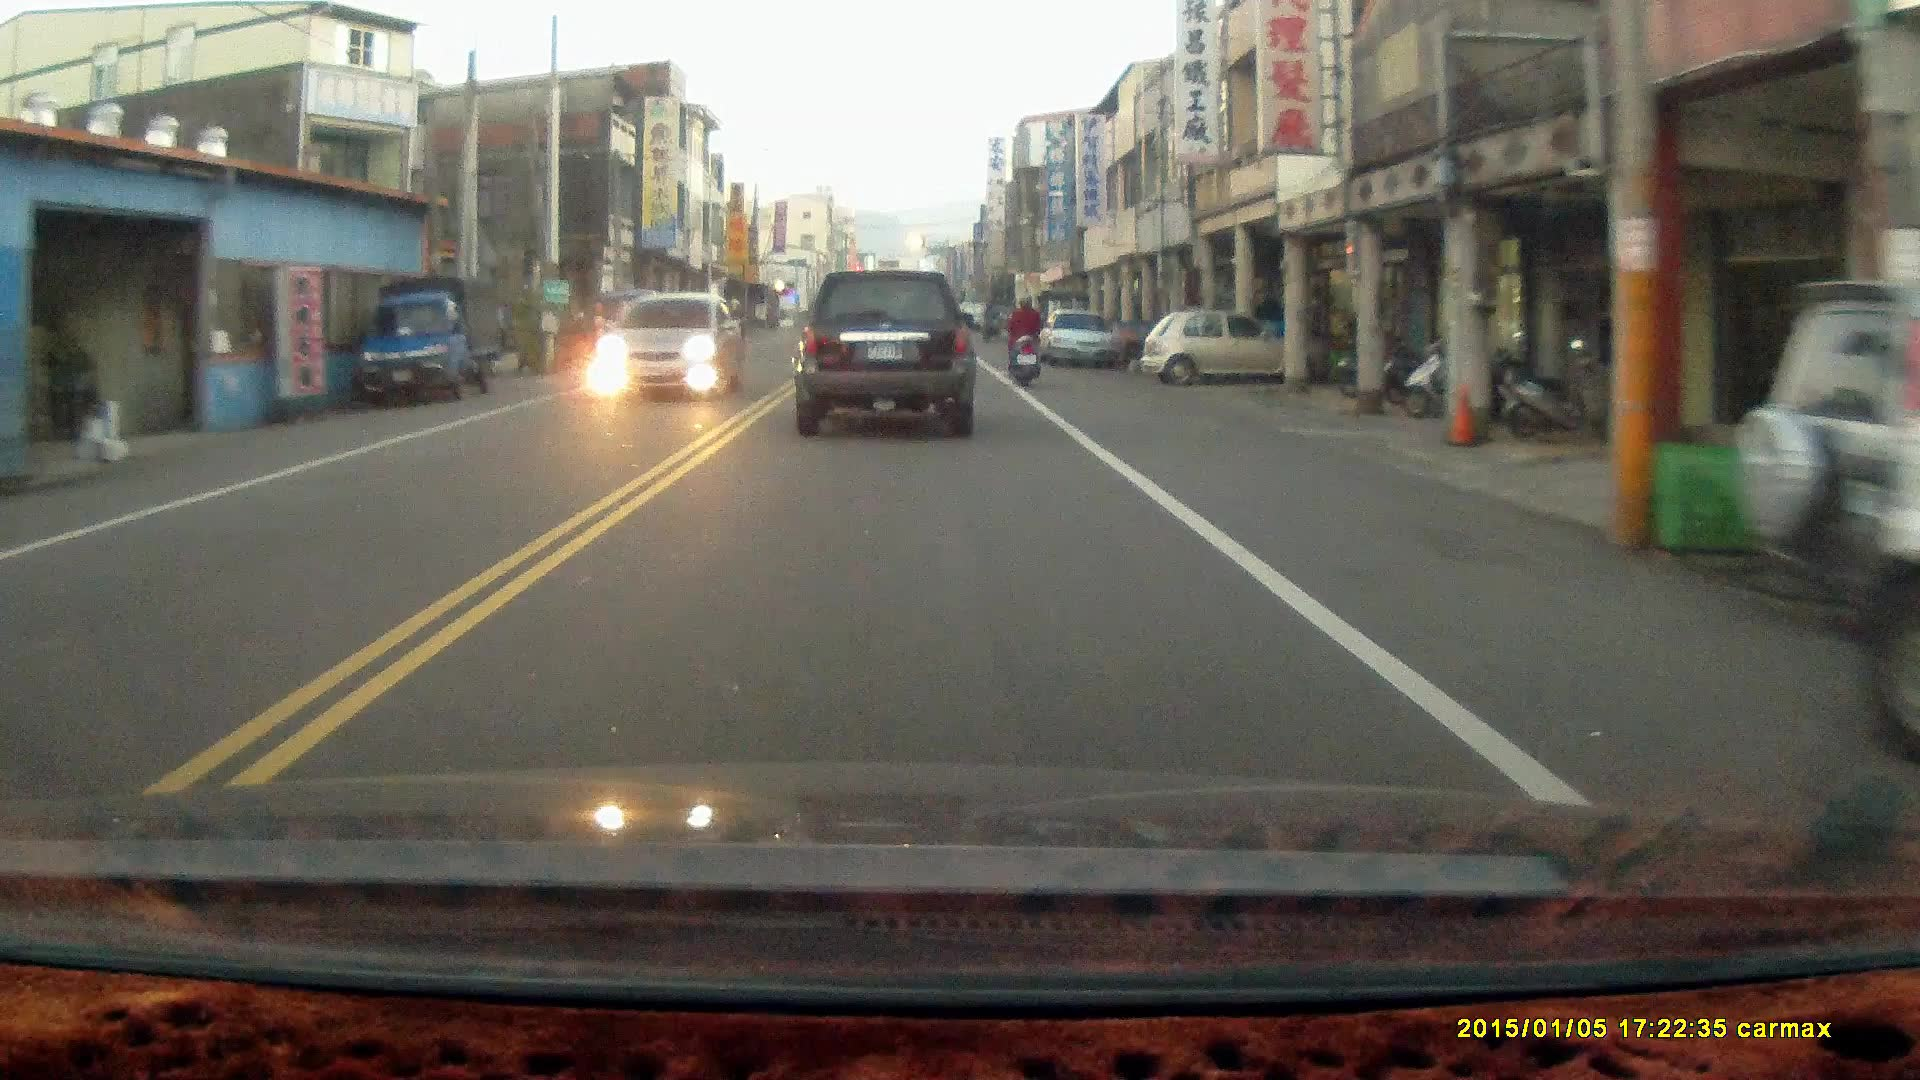pedestrian: (588, 296, 609, 361)
rider: (1005, 291, 1042, 386)
vehicle: (1728, 273, 1919, 648), (789, 262, 978, 434), (361, 269, 513, 406), (598, 290, 749, 404), (1144, 304, 1308, 384), (1042, 306, 1126, 367)
